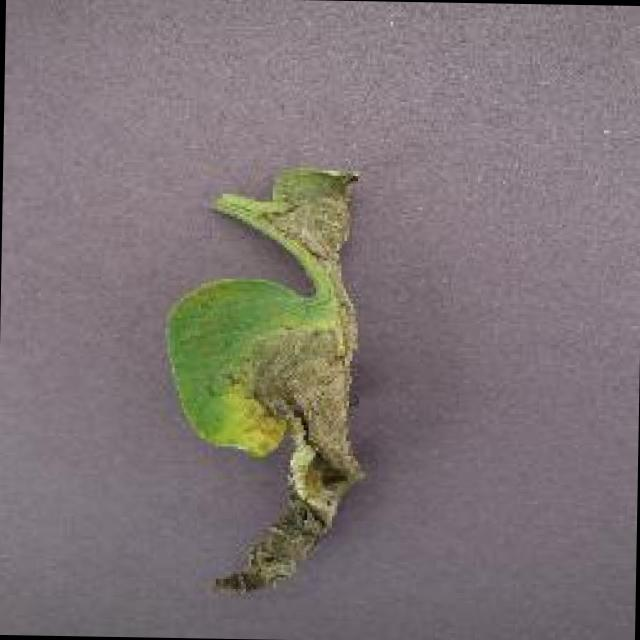Tomato_Late_Blight: (215, 159, 372, 612)
